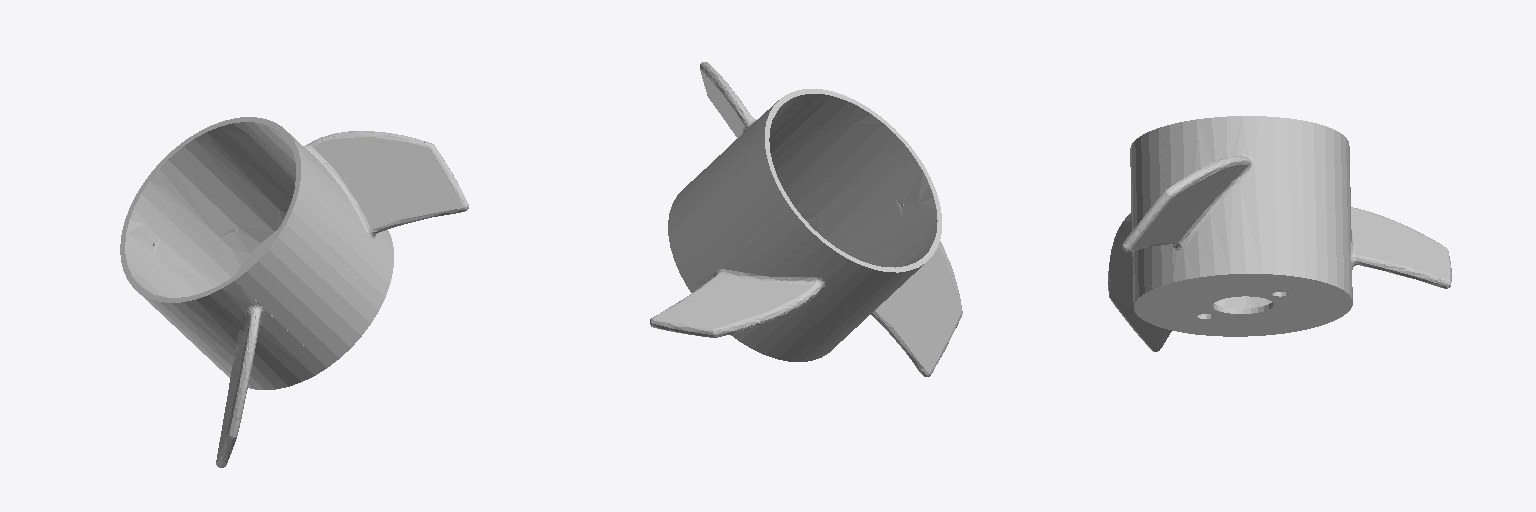
Rendered from propeller_bottom_left1.obj.
3 renders of one model, left to right at view 1: azimuth 30°, elevation 25°; view 2: azimuth 150°, elevation 25°; view 3: azimuth 270°, elevation 25°, orthographic.
Parts seen in each view (by area): view 1: propeller_bottom_left; view 2: propeller_bottom_left; view 3: propeller_bottom_left.
Part boxes in pixels (left/top/right/bottom): propeller_bottom_left: left=120, top=117, right=468, bottom=467; propeller_bottom_left: left=650, top=62, right=962, bottom=376; propeller_bottom_left: left=1108, top=116, right=1451, bottom=351.
Bounding box in the file's own units: 0.0567 × 0.0567 × 0.0619.